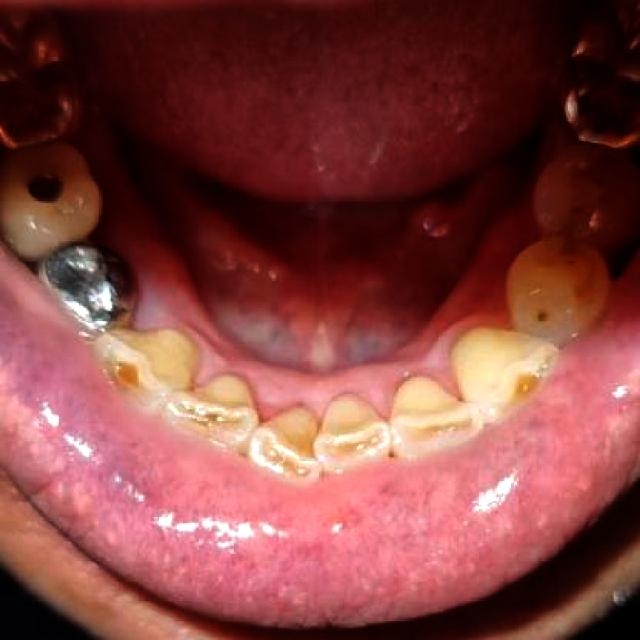Plaque: (572, 166, 615, 225), (528, 305, 563, 328), (559, 255, 583, 274)
